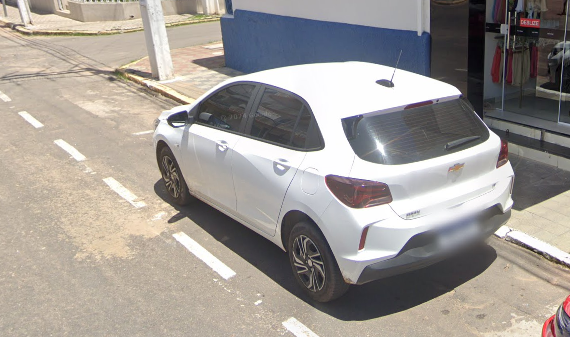car: (150, 47, 516, 306)
